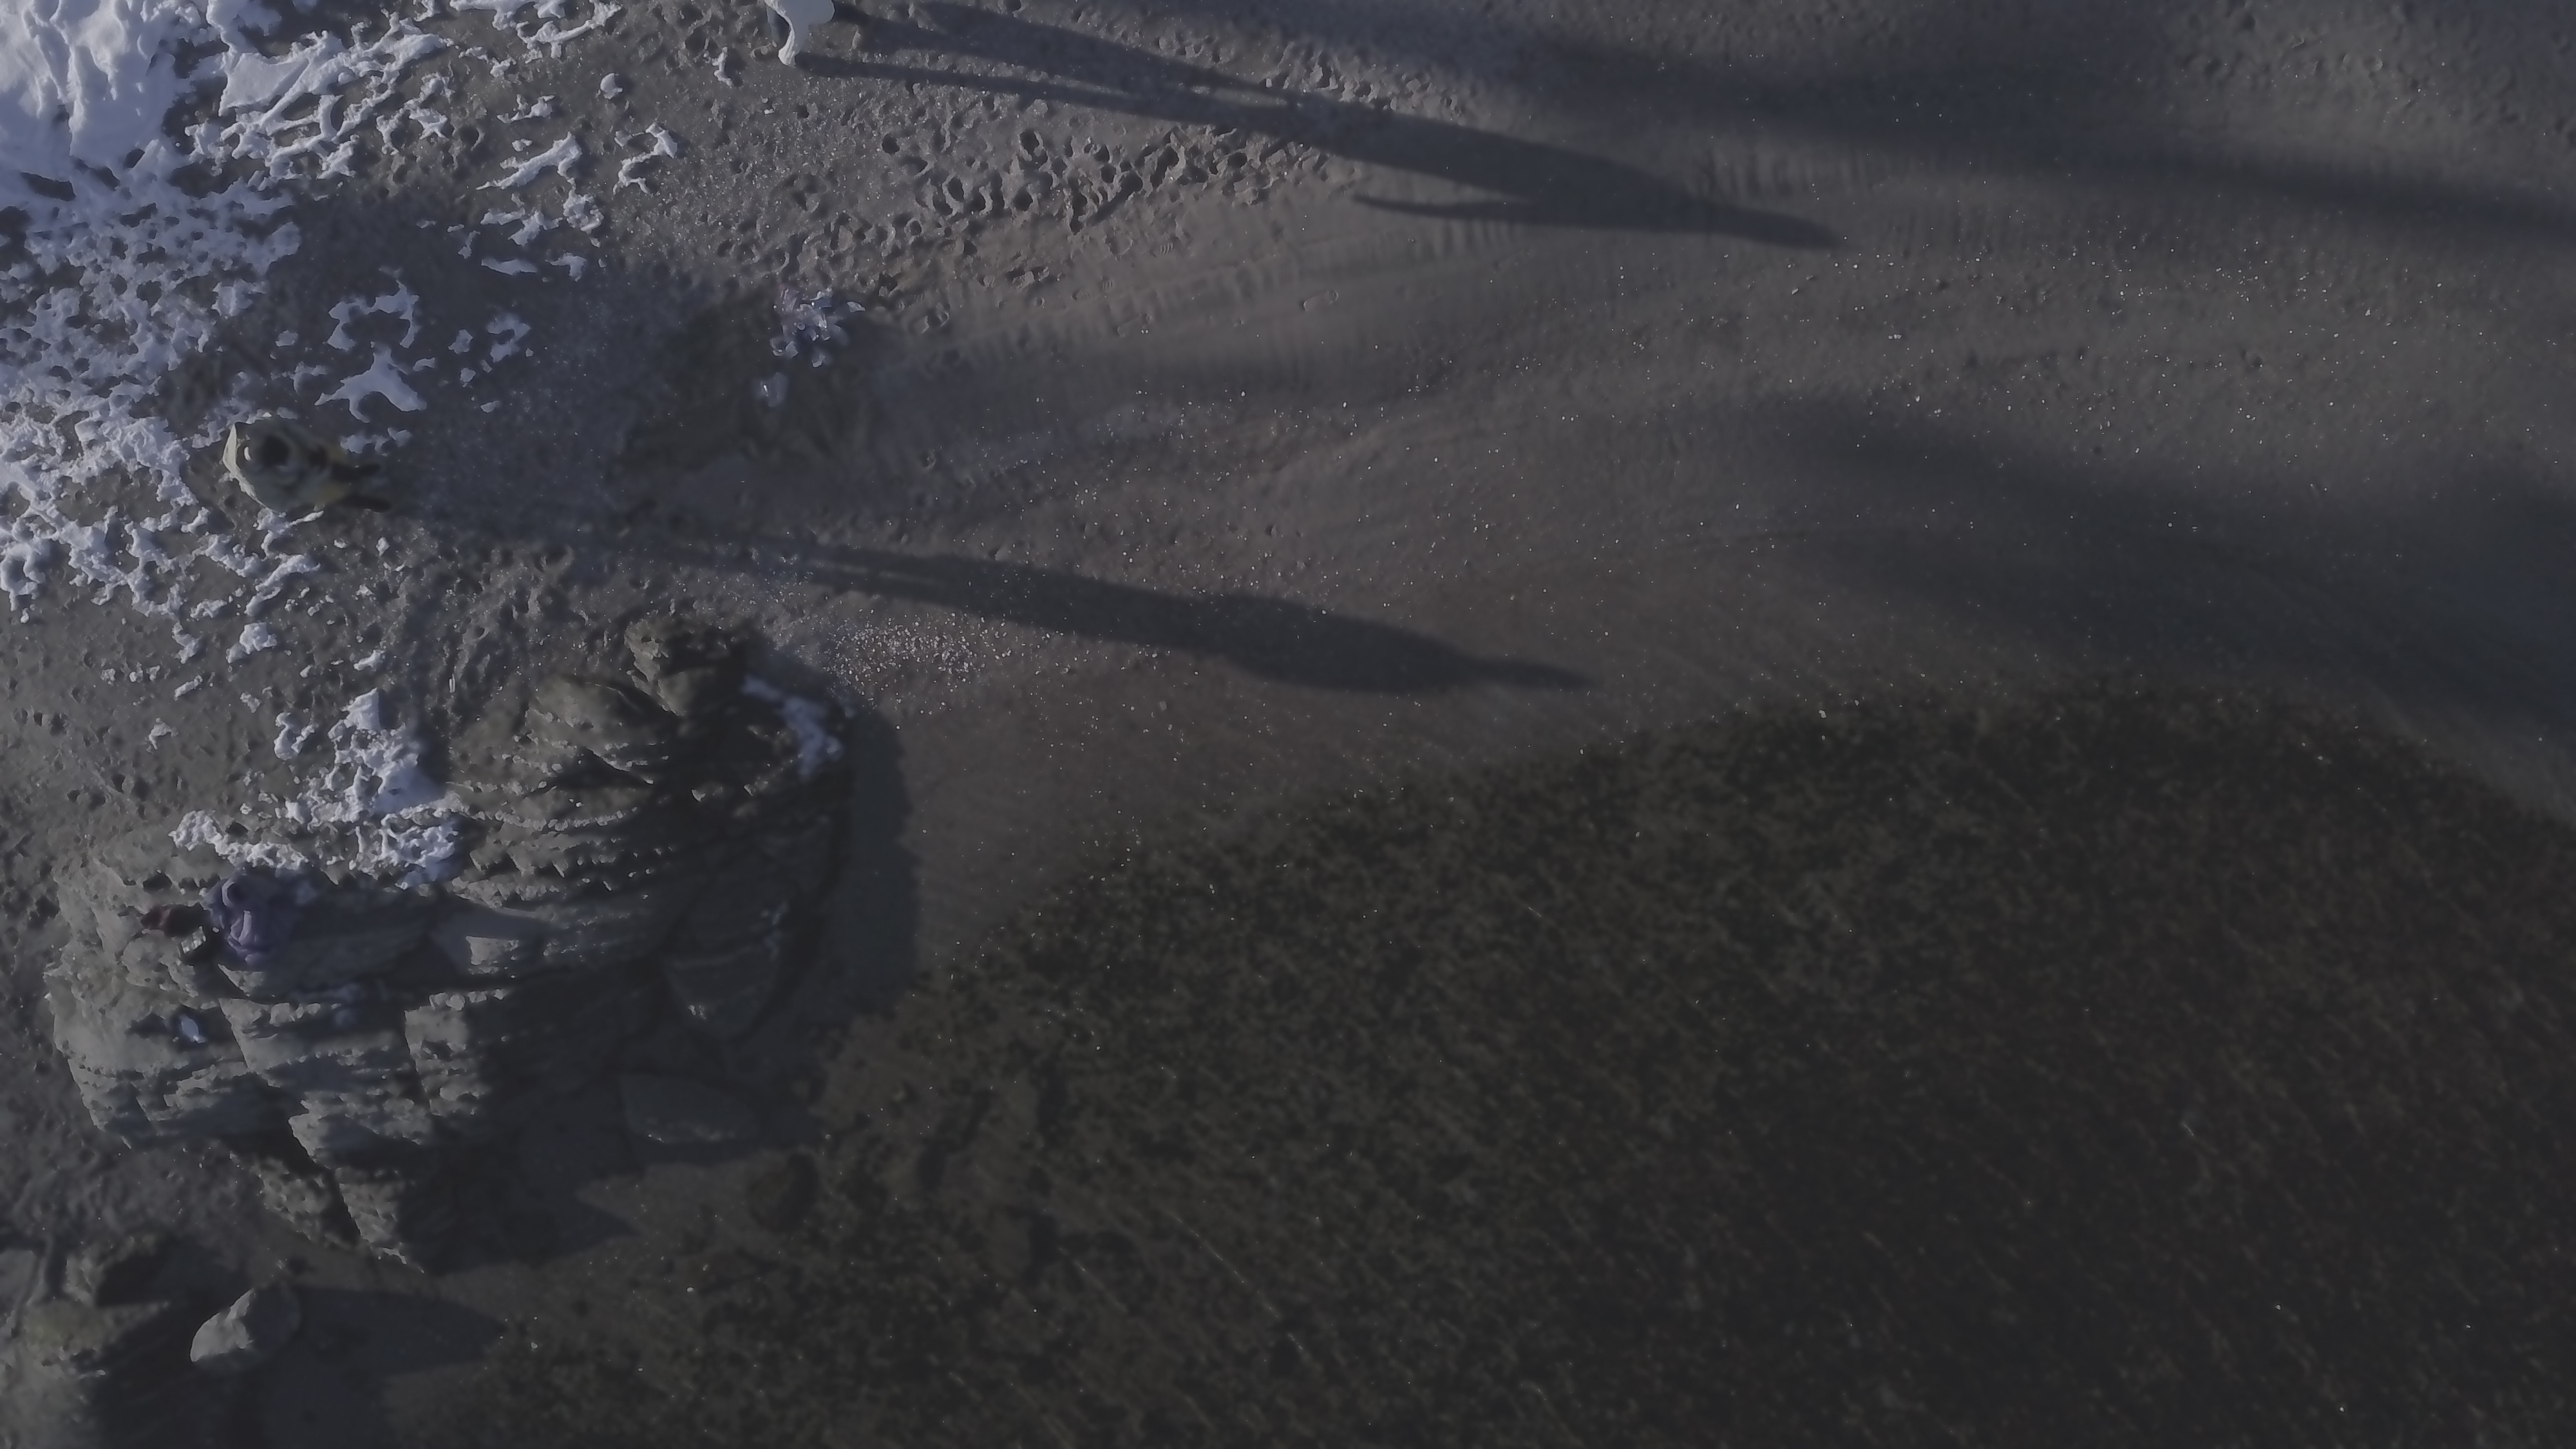Can: (796, 322, 807, 333)
Plastic: (780, 303, 828, 331), (755, 377, 791, 405), (768, 333, 798, 357), (775, 283, 800, 313), (826, 311, 846, 341), (803, 287, 837, 303), (846, 295, 867, 315), (810, 352, 830, 368)
